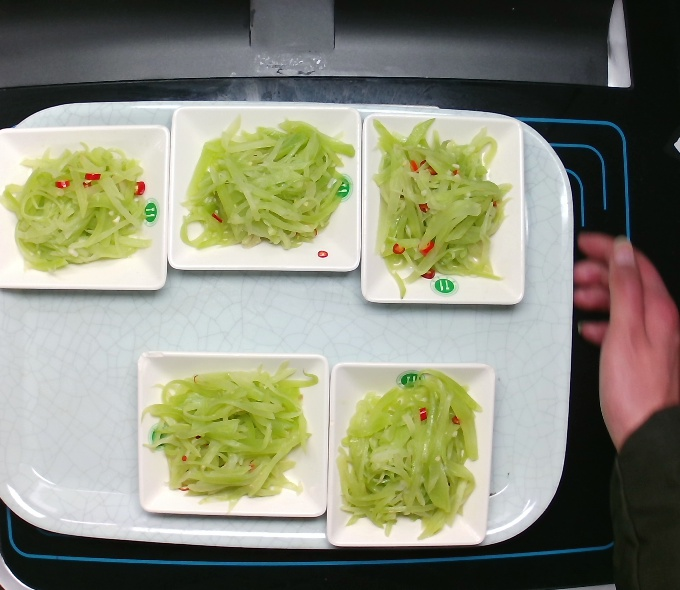wcq-YanWoSun: (366, 112, 516, 289), (327, 368, 481, 537), (180, 116, 355, 259), (149, 366, 306, 507), (1, 141, 157, 282)
